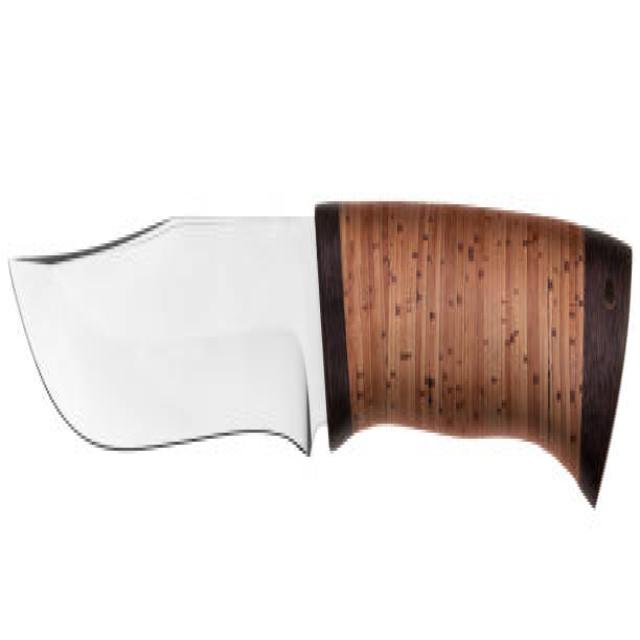knife: (8, 183, 637, 537)
